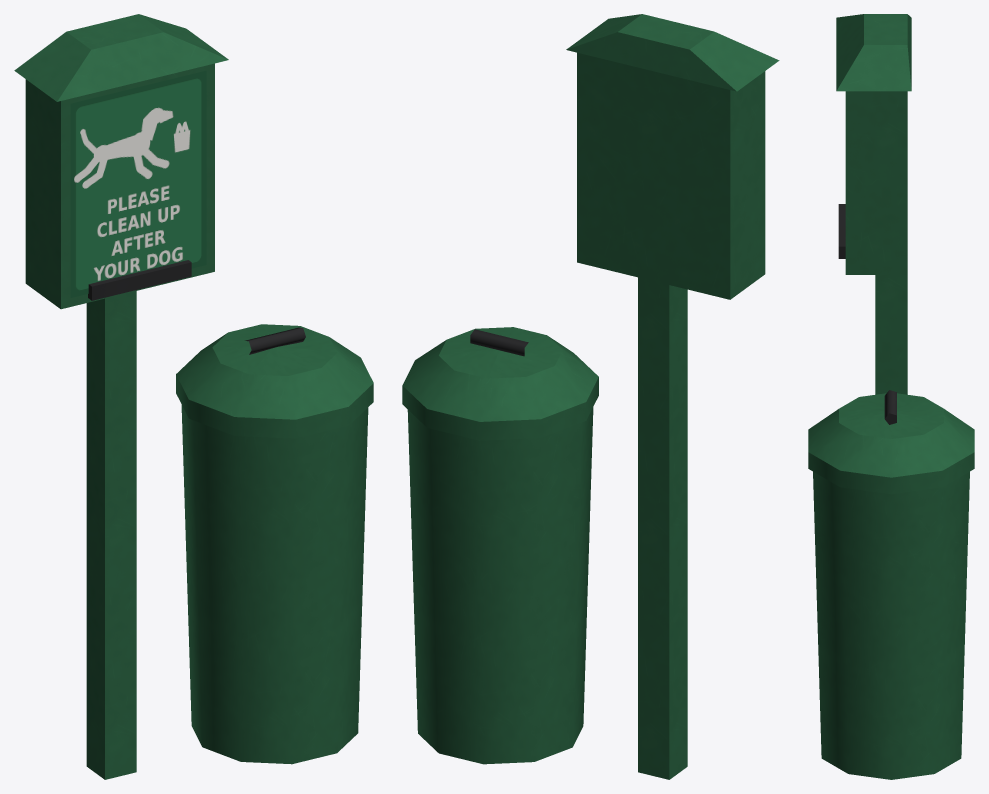
The model's file is dog_waste_station.gltf.
3 renders of one model, left to right at view 1: azimuth 30°, elevation 25°; view 2: azimuth 150°, elevation 25°; view 3: azimuth 270°, elevation 25°, orthographic. The views are drawn at different scales.
Visible parts, largest first — view 1: dog_waste_station; view 2: dog_waste_station; view 3: dog_waste_station.
Boxes of the visible parts, <box> form: dog_waste_station: <box>14,14,373,779</box>; dog_waste_station: <box>402,14,779,779</box>; dog_waste_station: <box>808,14,974,779</box>.
Size of the model in its own units: 0.851 by 1.79 by 0.4156.
Materials: 3 (3 with a texture image).
